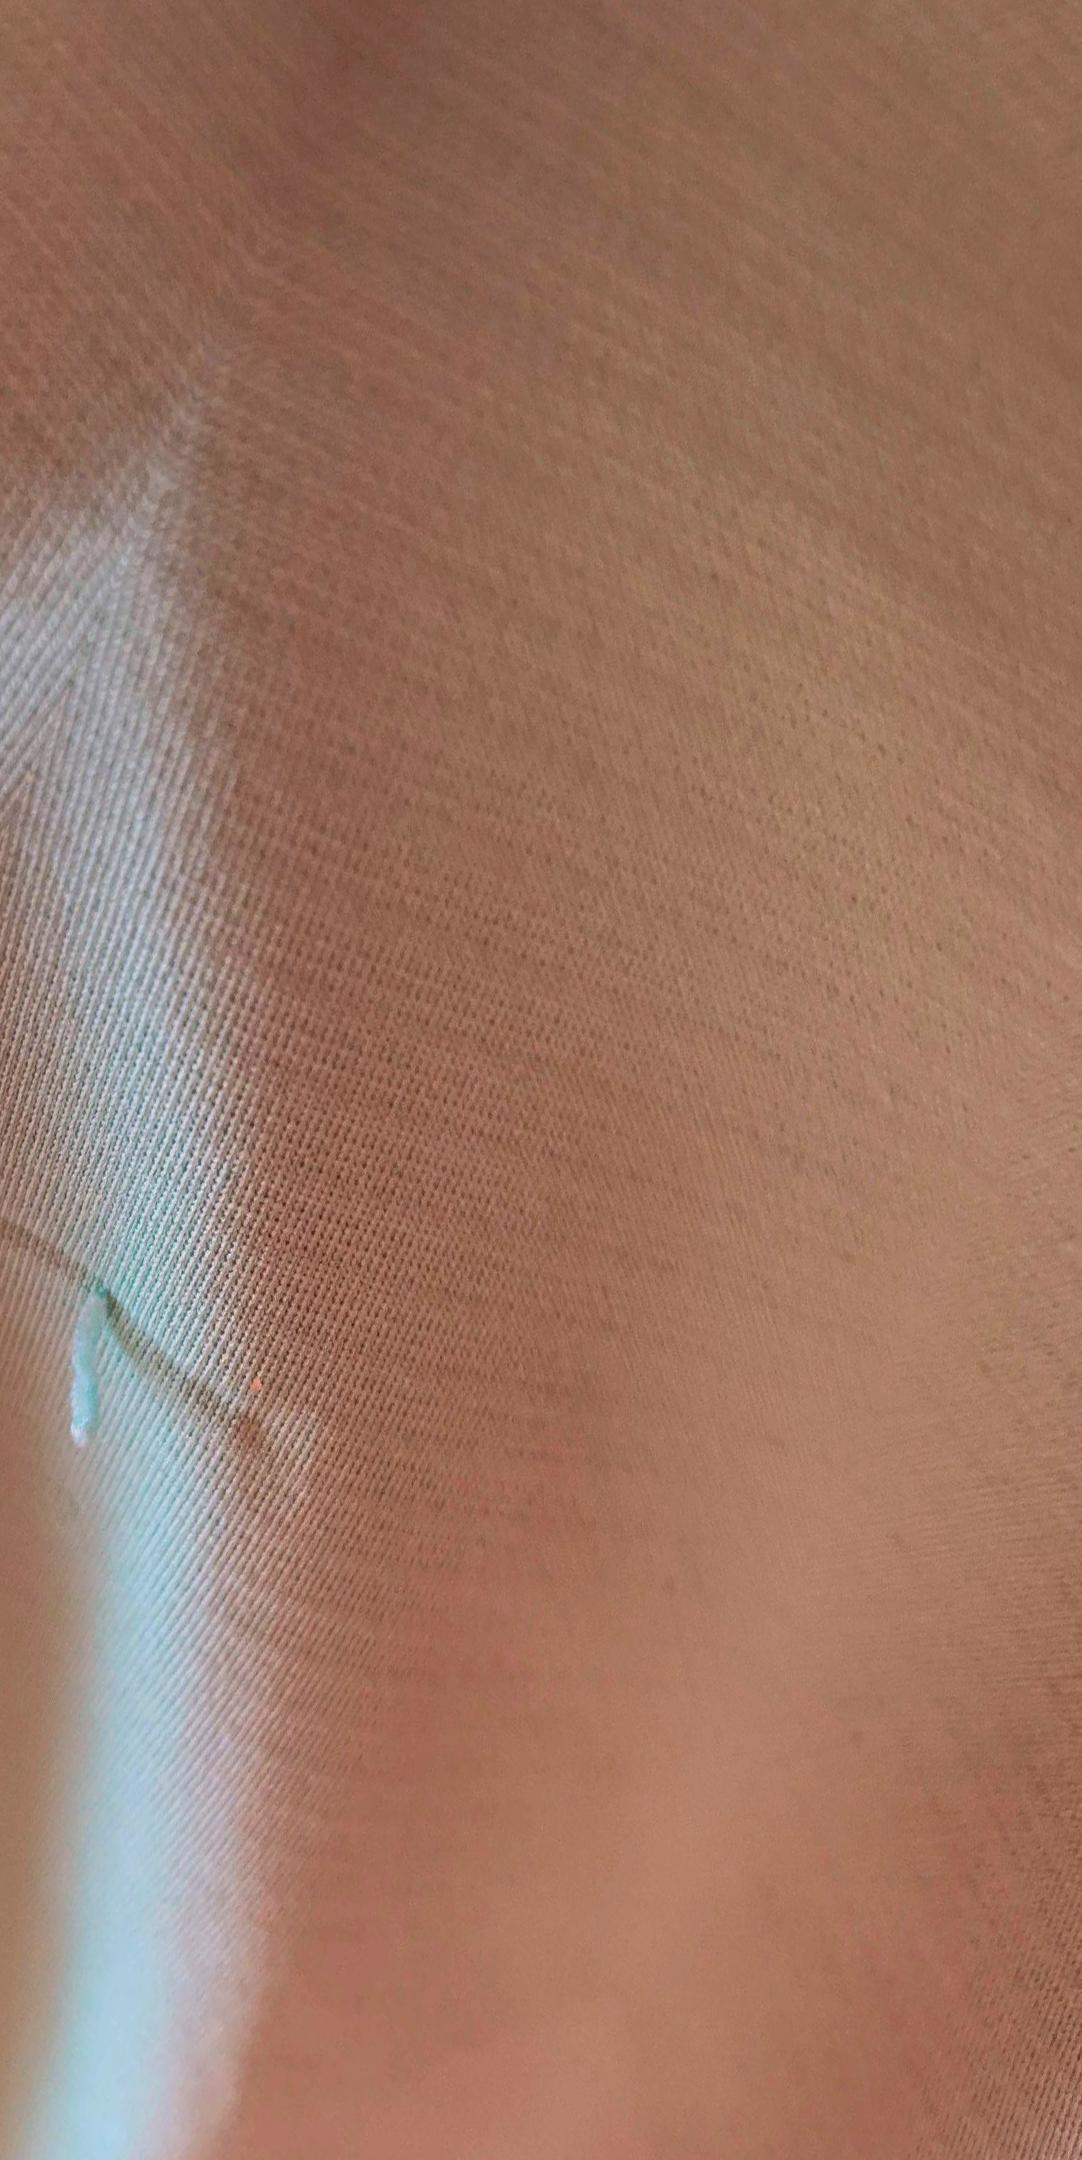snag: (18, 1189, 170, 1501)
